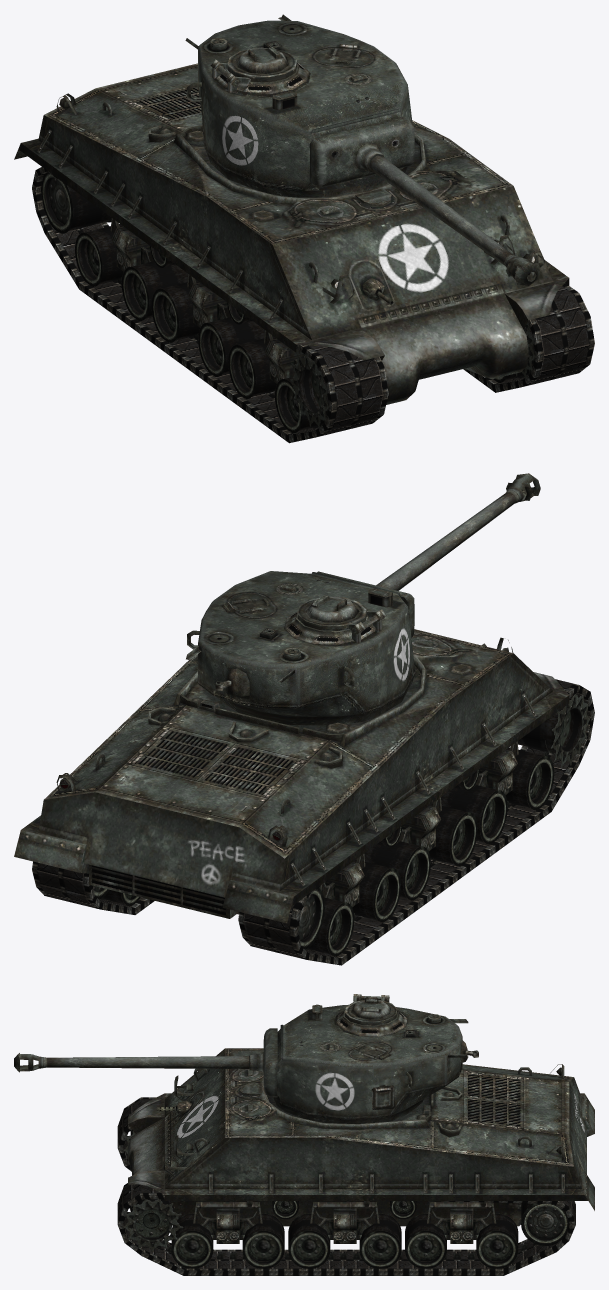
Rendered from M4E8_model_track.FBX.
3 renders of one model, top to bottom at view 1: azimuth 30°, elevation 25°; view 2: azimuth 150°, elevation 25°; view 3: azimuth 270°, elevation 25°, orthographic. The views are drawn at different scales.
Visible parts, largest first — view 1: body, Righttrack, turret, cannon, Lefttrack; view 2: body, turret, Righttrack, cannon, Lefttrack; view 3: body, Lefttrack, turret, cannon, Righttrack.
Boxes of the visible parts, x1=… form: body: x1=14, y1=63, x2=569, y2=404; Righttrack: x1=32, y1=167, x2=388, y2=443; turret: x1=185, y1=14, x2=415, y2=197; cannon: x1=309, y1=116, x2=540, y2=285; Lefttrack: x1=463, y1=283, x2=594, y2=392; body: x1=14, y1=629, x2=569, y2=923; turret: x1=186, y1=571, x2=415, y2=725; Righttrack: x1=238, y1=679, x2=594, y2=965; cannon: x1=317, y1=473, x2=540, y2=637; Lefttrack: x1=32, y1=861, x2=154, y2=914; body: x1=128, y1=1048, x2=594, y2=1243; Lefttrack: x1=117, y1=1183, x2=575, y2=1275; turret: x1=273, y1=994, x2=478, y2=1123; cannon: x1=14, y1=1028, x2=277, y2=1097; Righttrack: x1=117, y1=1097, x2=155, y2=1171.
Size of the model in its own units: 2.93 by 2.87 by 7.09.
Materials: 2 (2 with a texture image).
